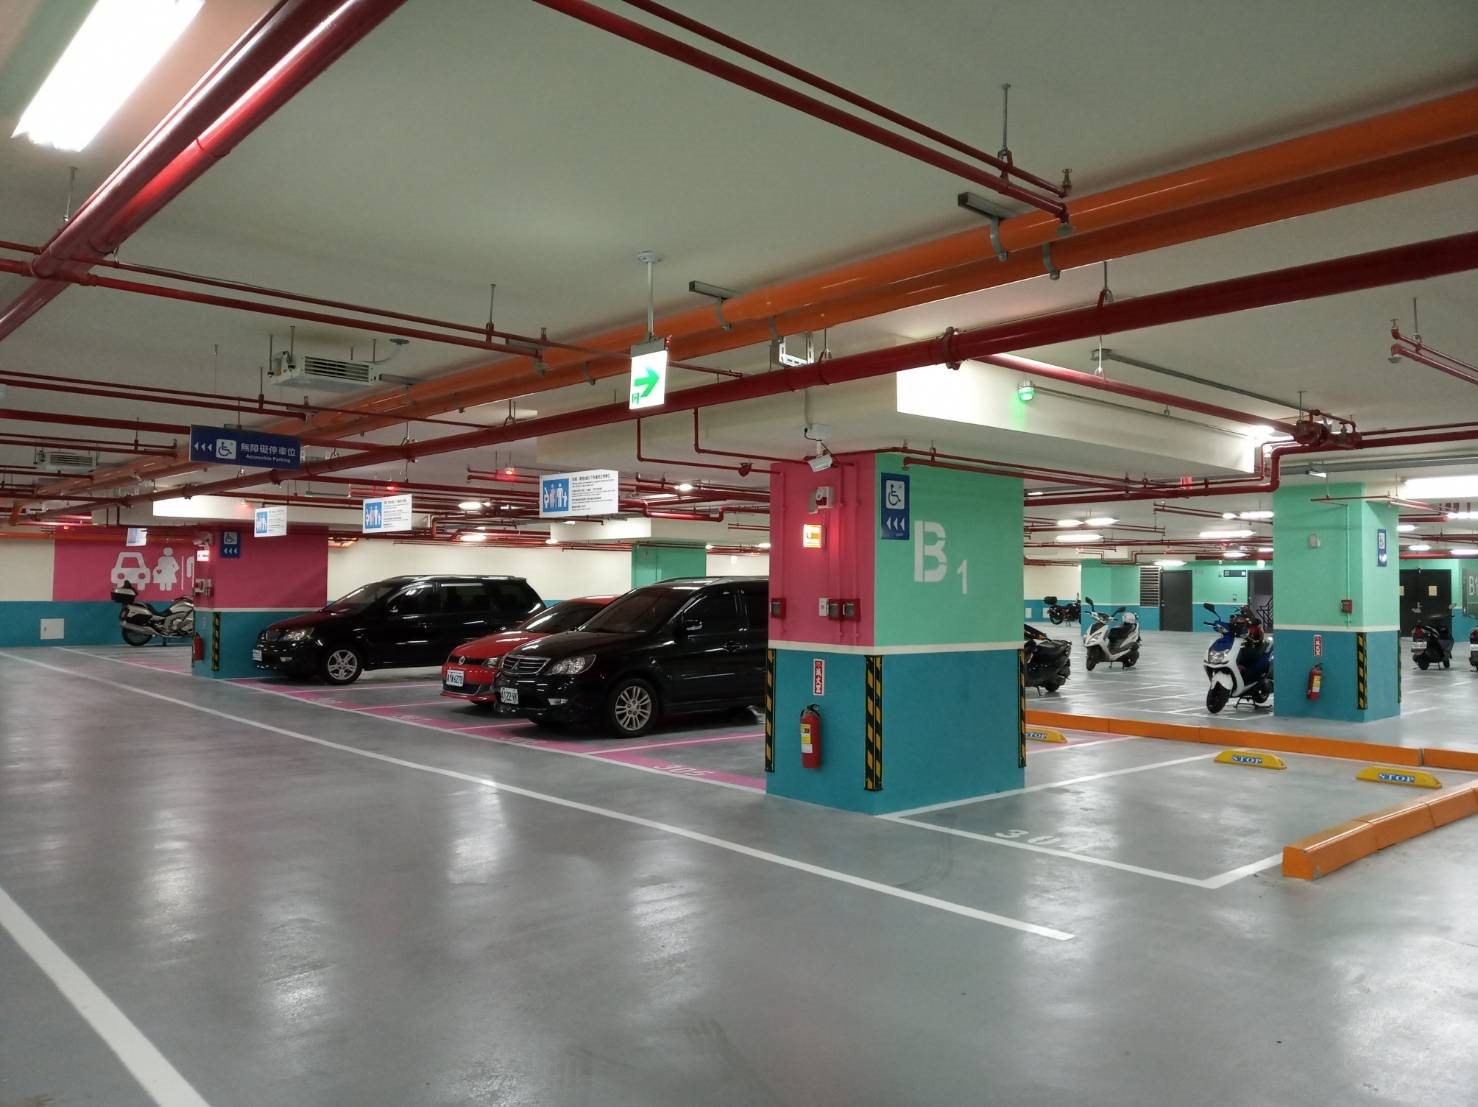car: (506, 572, 774, 740), (248, 562, 431, 679), (434, 616, 520, 723)
